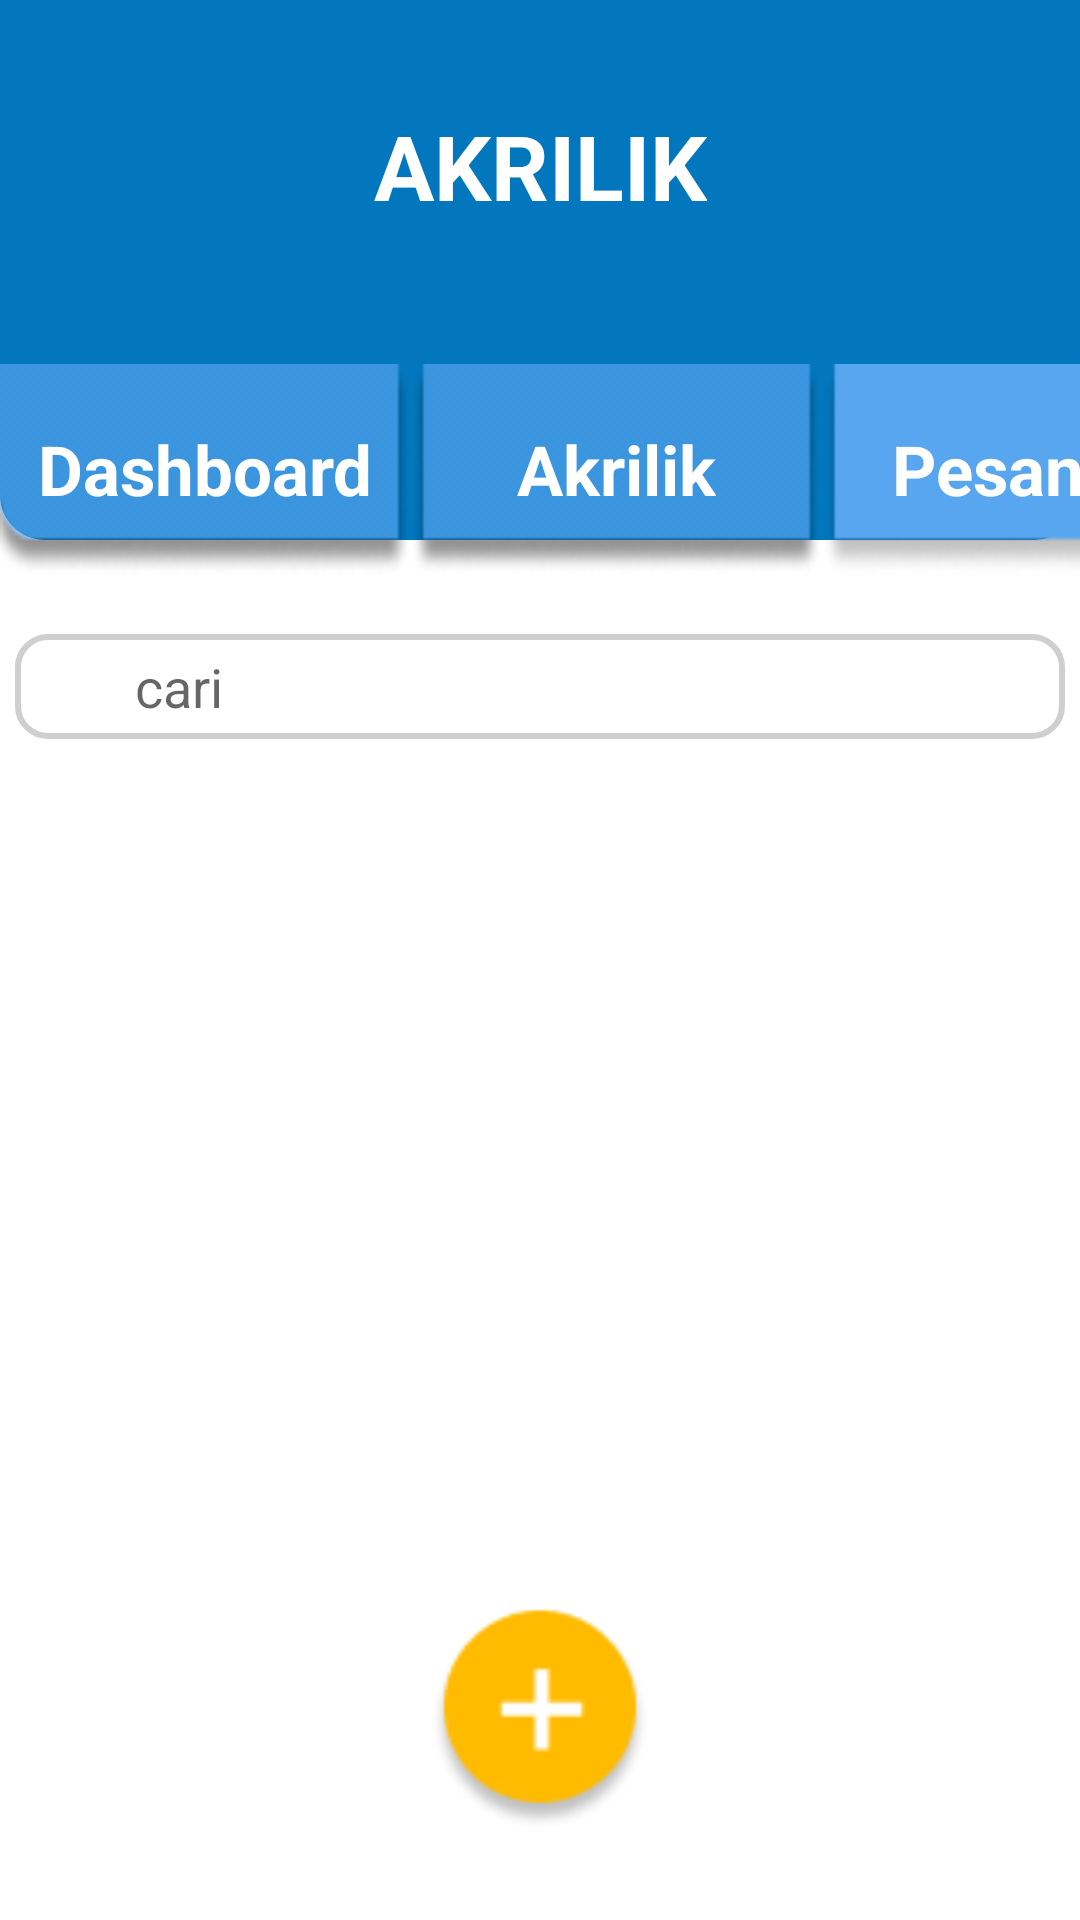

Named icons in this screenshot (1080*1920) and their bounding boxes, [x1,y1,x2,y2]:
tambah: [442,1609,638,1818]
